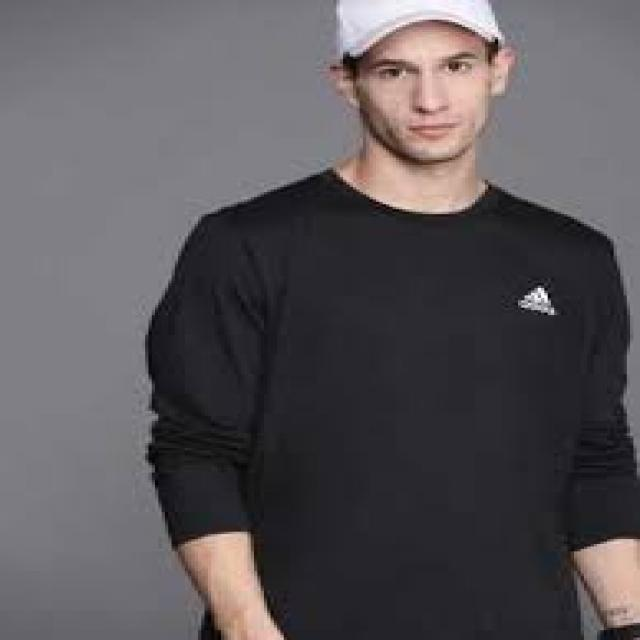Adidas: (513, 281, 558, 320)
